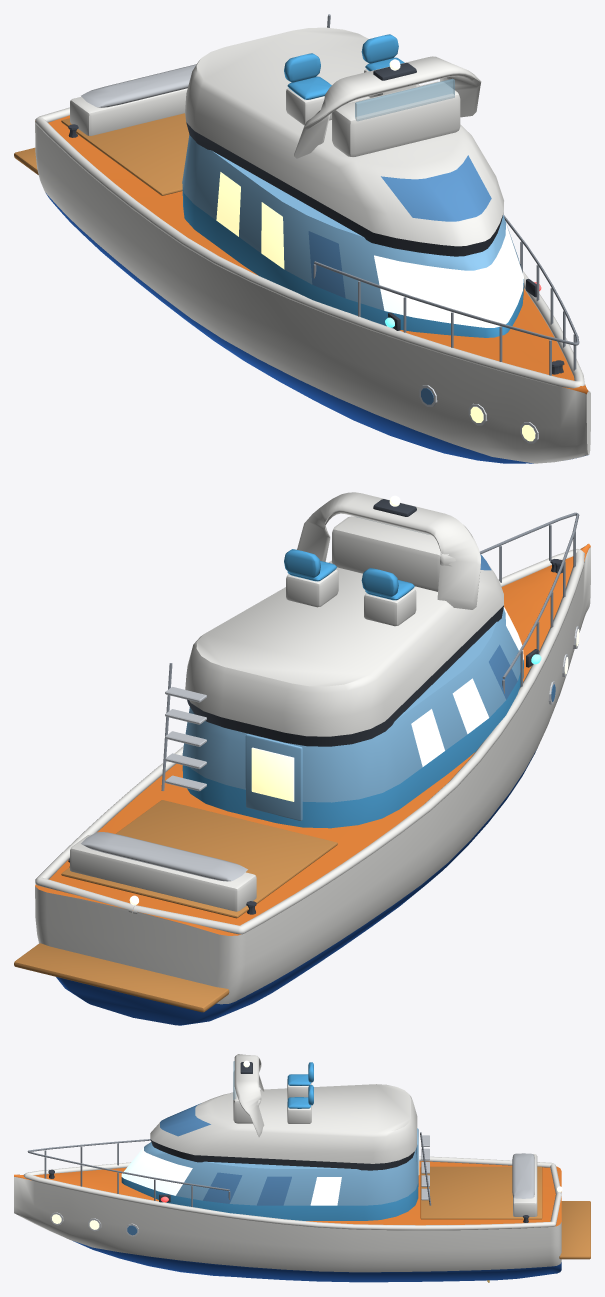
Rendered from iate_flybridge.glb.
3 renders of one model, top to bottom at view 1: azimuth 30°, elevation 25°; view 2: azimuth 150°, elevation 25°; view 3: azimuth 270°, elevation 25°, orthographic. The views are drawn at different scales.
Parts seen in each view (by area): view 1: iate_flybridge; view 2: iate_flybridge, porta_salao; view 3: iate_flybridge.
Part boxes in pixels (left/top/right/bottom): iate_flybridge: left=14, top=14, right=590, bottom=463; iate_flybridge: left=14, top=492, right=590, bottom=1025; porta_salao: left=245, top=734, right=302, bottom=820; iate_flybridge: left=14, top=1054, right=590, bottom=1282.
Bounding box in the file's own units: 3.52 × 4.72 × 11.78.
Materials: 8 (1 with a texture image).
